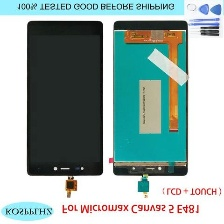phone: (109, 18, 191, 180), (22, 18, 104, 179)
